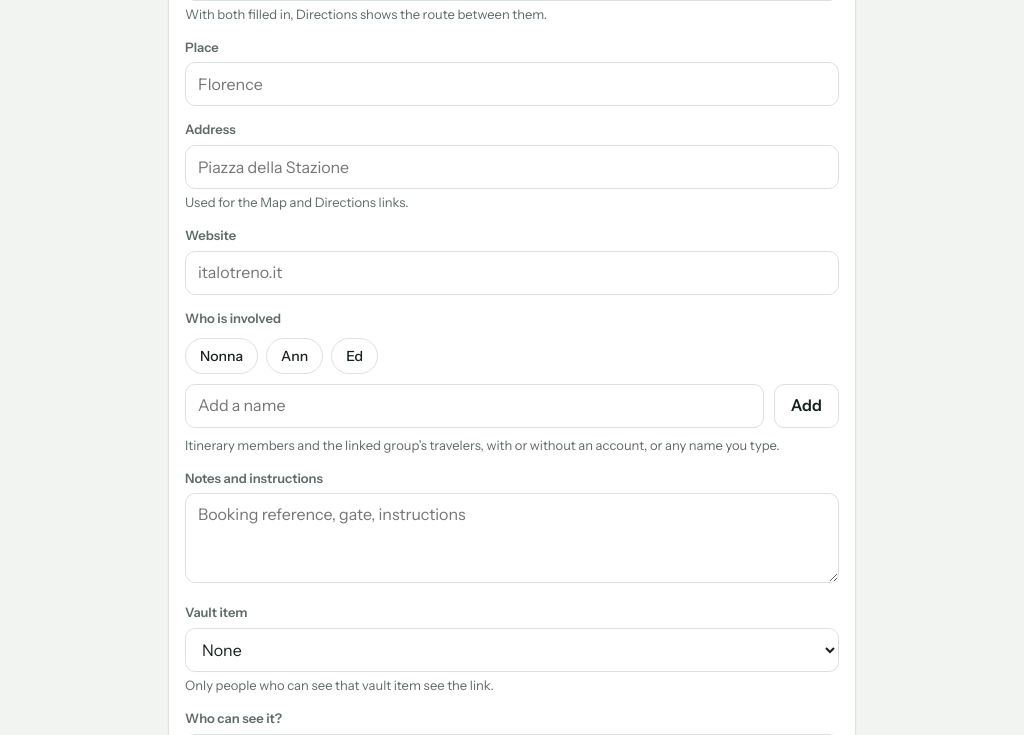
Test: editor › offers the itinerary members and the group’s travelers as people
This screenshot has width=1024, height=735.
(page scrolled)
expect the button "Nonna" is shown: met, box [185, 338, 258, 374]
Click the button "Ed" at (355, 356), box [331, 338, 378, 374]
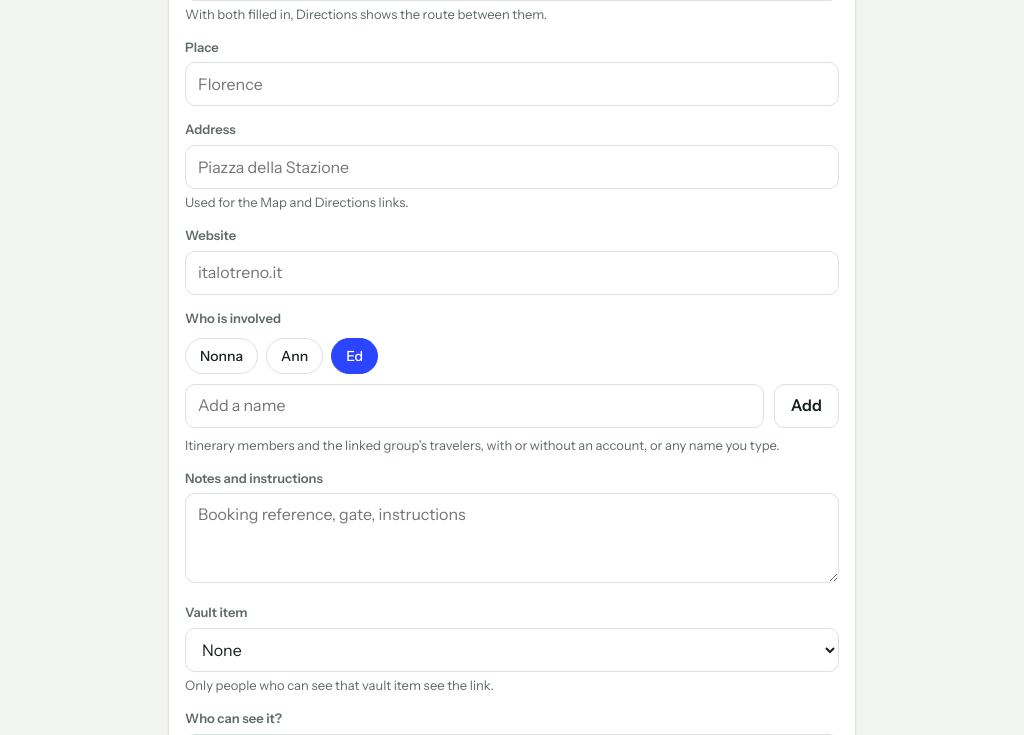
Type "Uncle Joe" into the field labelled "Add a name" at (474, 406), box [185, 384, 764, 428]
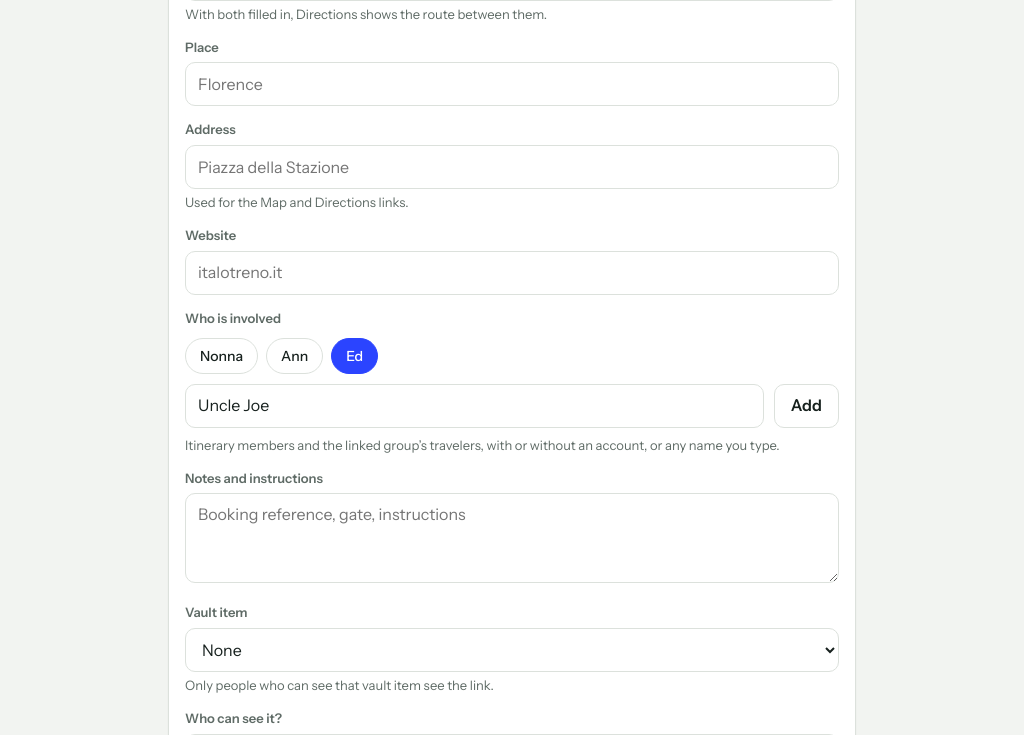
Click the button "Add" at (806, 406), box [774, 384, 839, 428]
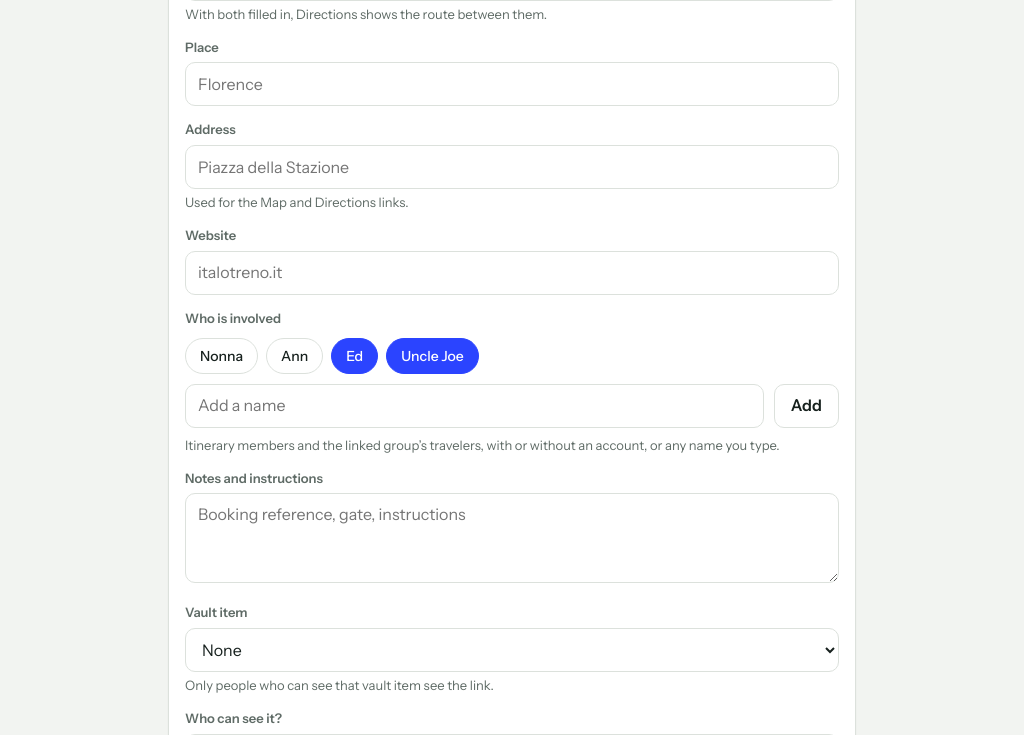
expect the button "Uncle Joe" is shown: met, box [386, 338, 479, 374]
